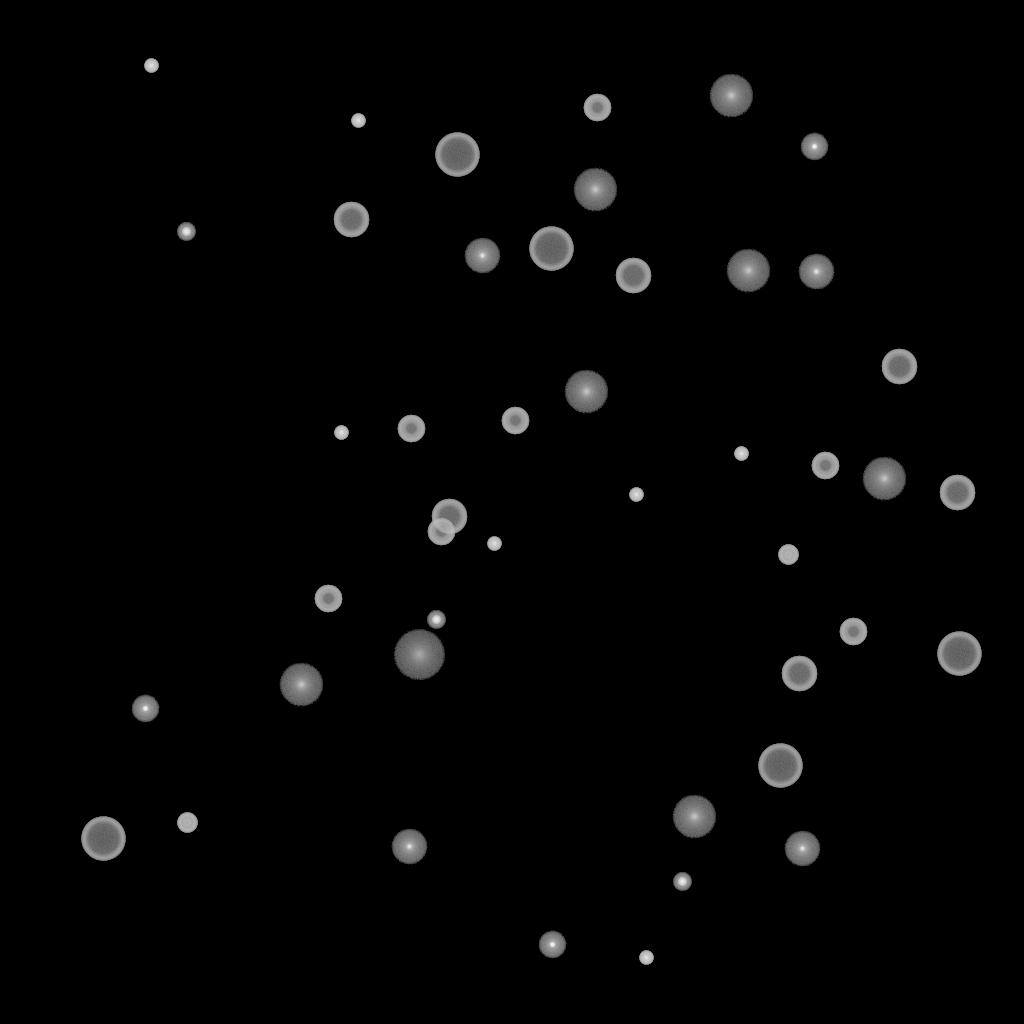depth:-10: (131, 695, 159, 723), (538, 931, 566, 959), (800, 133, 828, 161)
depth:-20: (177, 223, 195, 241), (427, 611, 445, 629), (673, 873, 691, 891)
depth:-30: (144, 59, 158, 73), (639, 951, 653, 965), (487, 537, 501, 551), (629, 488, 643, 502), (351, 114, 365, 128), (734, 447, 748, 461), (334, 426, 348, 440)
depth:-40: (778, 545, 798, 565), (177, 813, 197, 833)
depth:-50: (397, 415, 425, 443), (811, 452, 839, 480), (501, 407, 529, 435), (427, 518, 455, 546), (583, 94, 611, 122), (839, 618, 867, 646), (314, 585, 342, 613)
depth:-60: (431, 499, 467, 535), (615, 258, 651, 294), (939, 475, 975, 511), (881, 349, 917, 385), (333, 202, 369, 238), (781, 656, 817, 692)
depth:-70: (758, 744, 802, 788), (81, 817, 125, 861), (435, 133, 479, 177), (937, 632, 981, 676), (529, 227, 573, 271)
depth:0: (798, 254, 834, 290), (391, 829, 427, 865), (784, 831, 820, 867), (464, 238, 500, 274)
depth:10: (573, 168, 617, 212), (862, 457, 906, 501), (672, 795, 716, 839), (709, 74, 753, 118), (726, 249, 770, 293), (279, 663, 323, 707), (564, 370, 608, 414)
depth:20: (393, 630, 445, 680)
